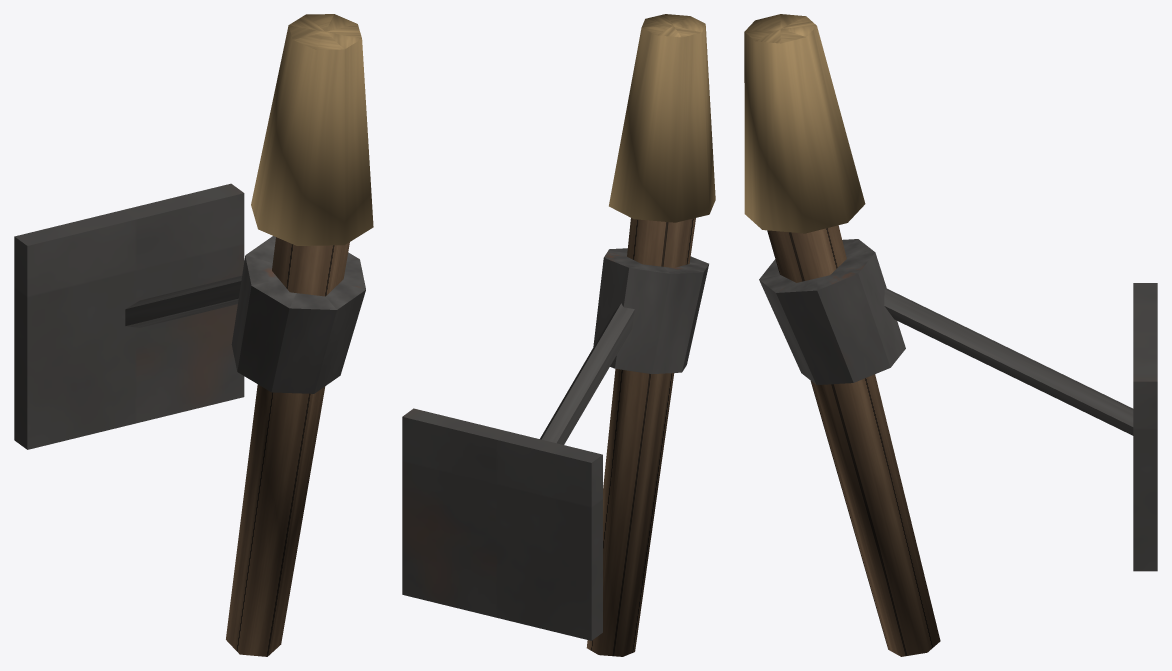
Rendered from Torch_Metal.gltf.
3 renders of one model, left to right at view 1: azimuth 30°, elevation 25°; view 2: azimuth 150°, elevation 25°; view 3: azimuth 270°, elevation 25°, orthographic. The views are drawn at different scales.
Visible parts, largest first — view 1: Torch_Metal; view 2: Torch_Metal; view 3: Torch_Metal.
Part boxes in pixels (<box>): Torch_Metal: <box>14,14,373,656</box>; Torch_Metal: <box>402,14,715,656</box>; Torch_Metal: <box>744,14,1157,656</box>.
Bounding box in the file's own units: 0.22 × 0.65 × 0.39.
3 materials, 3 textured.
